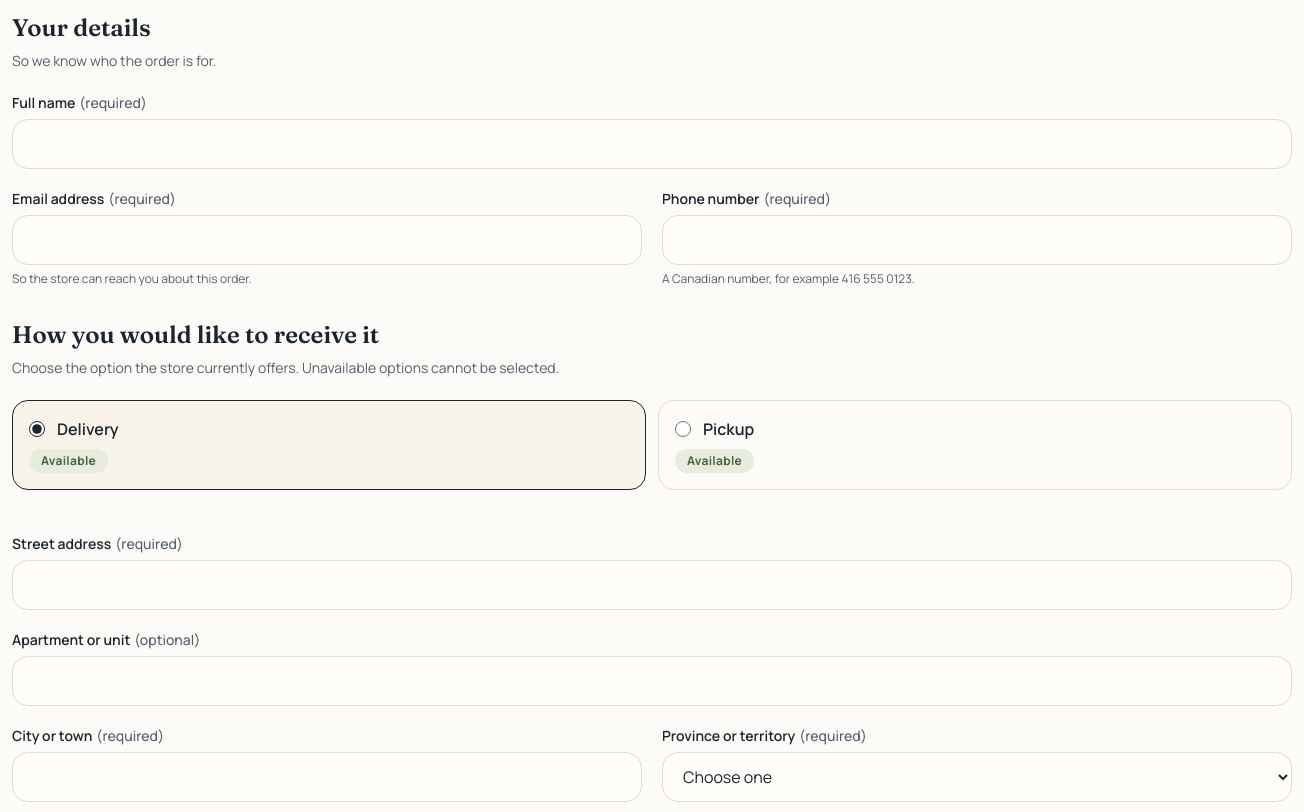
CustomerForm: validation › reports required fields on blur and marks them invalid
Click the field labelled "Full name(required)" at (652, 144), box [12,119,1292,169]
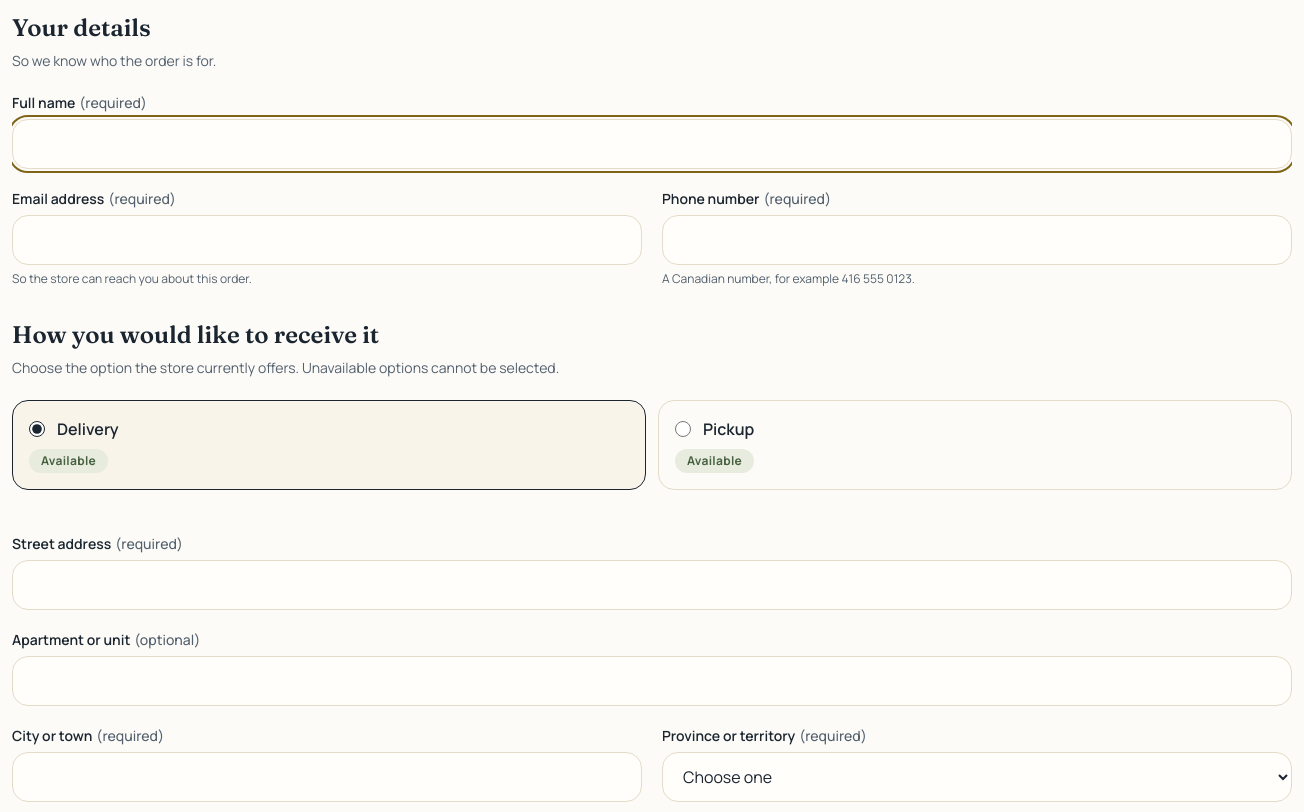
Press Tab
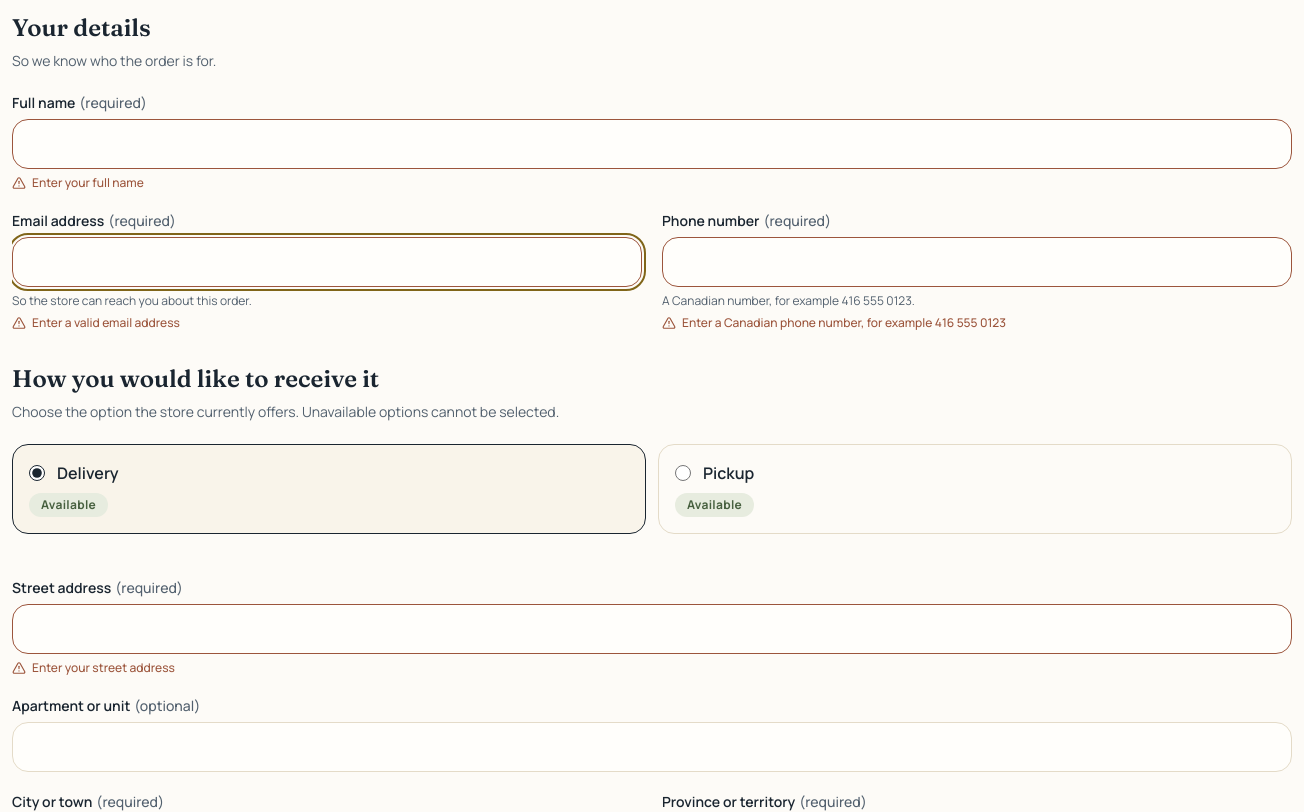
Expected: the message "Enter your full name" is shown, [12,174,144,191]
